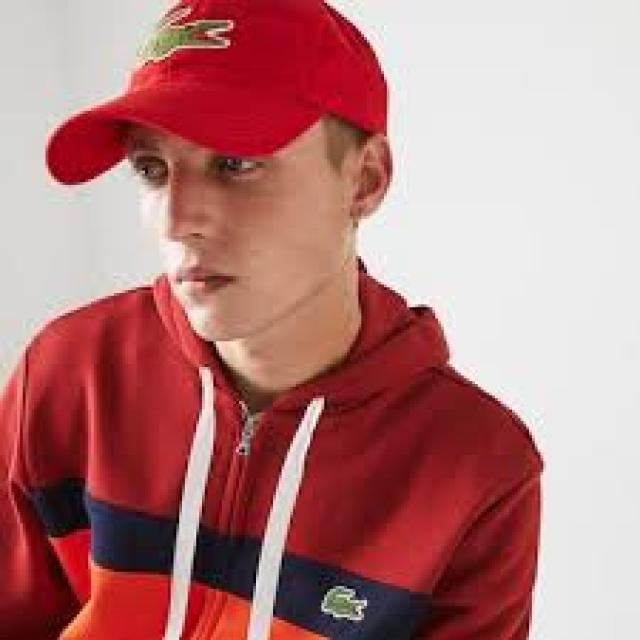cap: (8, 0, 418, 250)
